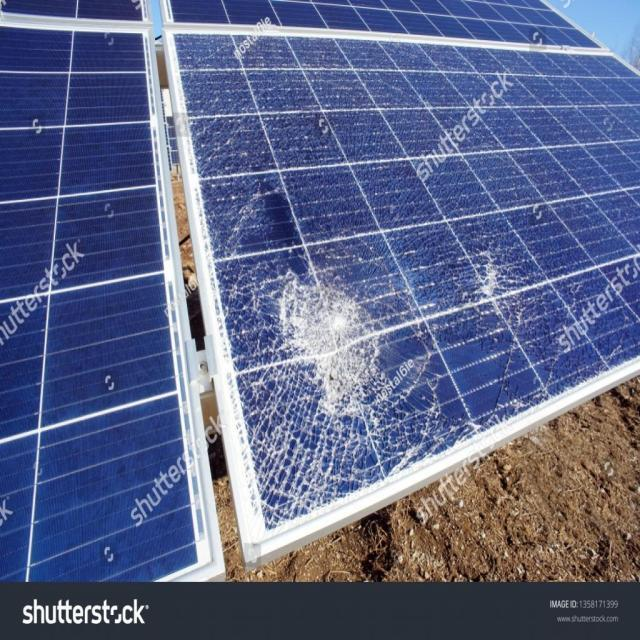cracked: (168, 22, 640, 567)
